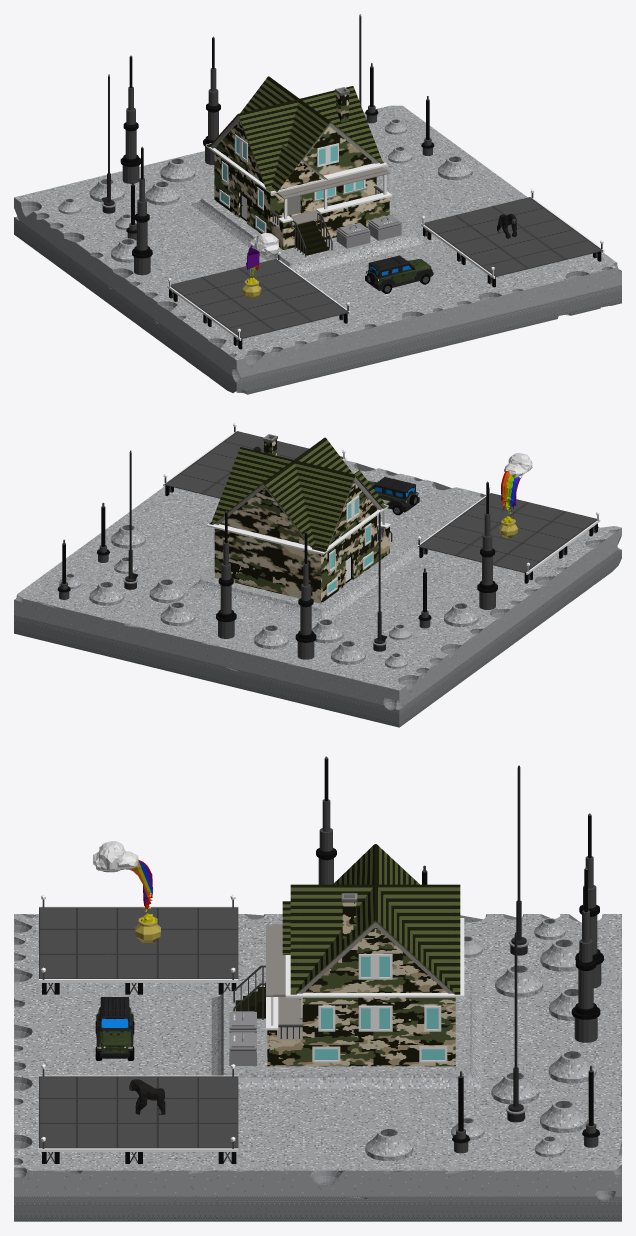
The picture shows the model from 3 angles, top to bottom: view 1: azimuth 30°, elevation 25°; view 2: azimuth 150°, elevation 25°; view 3: azimuth 270°, elevation 25°; orthographic projection. The views are drawn at different scales.
Parts seen in each view (by area): view 1: Cube.027, Cube.002, Cube.026, Cube.025, Cube.028, VEHICLES_JEEP, Cylinder.020, Cylinder.021, OBJRANDOM_RAINBOW, Cylinder.017, Cube.029, Cube.030 (+4 smaller); view 2: Cube.027, Cube.002, Cube.025, Cube.028, Cube.026, OBJRANDOM_RAINBOW, Cylinder.020, Cylinder.021, Cylinder.017, VEHICLES_JEEP, Cylinder.031, Cylinder.028 (+8 smaller); view 3: Cube.027, Cube.002, Cube.025, Cube.026, Cube.028, Cylinder.017, VEHICLES_JEEP, OBJRANDOM_RAINBOW, Cylinder.020, Cylinder.021, Cylinder.033, Cylinder.031 (+11 smaller).
Boxes of the visible parts, x1,y1,x2,y2 form: Cube.027: (14, 105, 621, 394); Cube.002: (205, 76, 392, 256); Cube.026: (421, 189, 604, 287); Cube.025: (167, 252, 350, 349); Cube.028: (191, 195, 424, 274); VEHICLES_JEEP: (365, 255, 433, 293); Cylinder.020: (120, 55, 140, 183); Cylinder.021: (132, 146, 152, 275); OBJRANDOM_RAINBOW: (242, 233, 279, 299); Cylinder.017: (203, 36, 220, 164); Cube.029: (336, 222, 370, 248); Cube.030: (368, 215, 401, 240); Cube.027: (14, 460, 621, 727); Cube.002: (206, 434, 392, 603); Cube.025: (417, 485, 600, 583); Cube.028: (190, 538, 419, 620); Cube.026: (163, 423, 346, 498); OBJRANDOM_RAINBOW: (499, 453, 532, 538); Cylinder.020: (295, 531, 316, 659); Cylinder.021: (477, 481, 497, 609); Cylinder.017: (216, 510, 236, 638); VEHICLES_JEEP: (368, 476, 419, 515); Cylinder.031: (89, 581, 124, 605); Cylinder.028: (331, 640, 365, 664); Cube.027: (14, 914, 621, 1221); Cube.002: (233, 844, 464, 1066); Cube.025: (39, 895, 238, 994); Cube.026: (39, 1064, 238, 1163); Cube.028: (211, 991, 481, 1088); Cylinder.017: (571, 867, 600, 1042); VEHICLES_JEEP: (95, 997, 134, 1060); OBJRANDOM_RAINBOW: (93, 841, 160, 942); Cylinder.020: (575, 813, 603, 988); Cylinder.021: (316, 756, 336, 884); Cylinder.033: (365, 1128, 413, 1160); Cylinder.031: (540, 1100, 587, 1132).
Bounding box in the file's own units: 4000 × 1803 × 4000.
37 materials, 6 textured.
